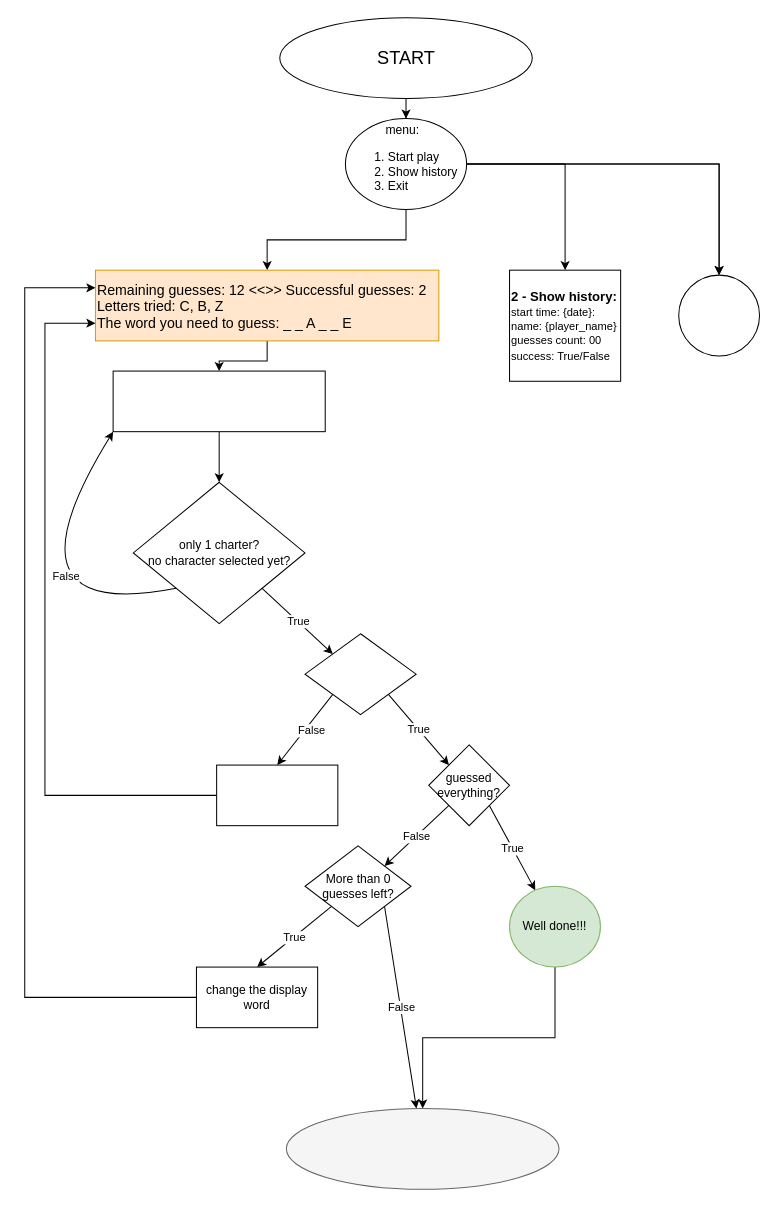
Some shapes in this 778 by 1207 pixel diagram are drawn without their labels. Each missing label, with the centre of its shape:
"bye-bye" goes at (x=719, y=315).
"END!" goes at (x=422, y=1148).
"Is letter in secret word?" goes at (x=360, y=674).
"update remaining attempts" goes at (x=277, y=795).
"What is your guess? >>>" goes at (x=218, y=401).
